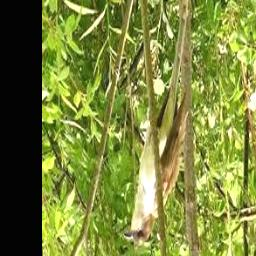Cuckoo: (123, 93, 189, 243)
